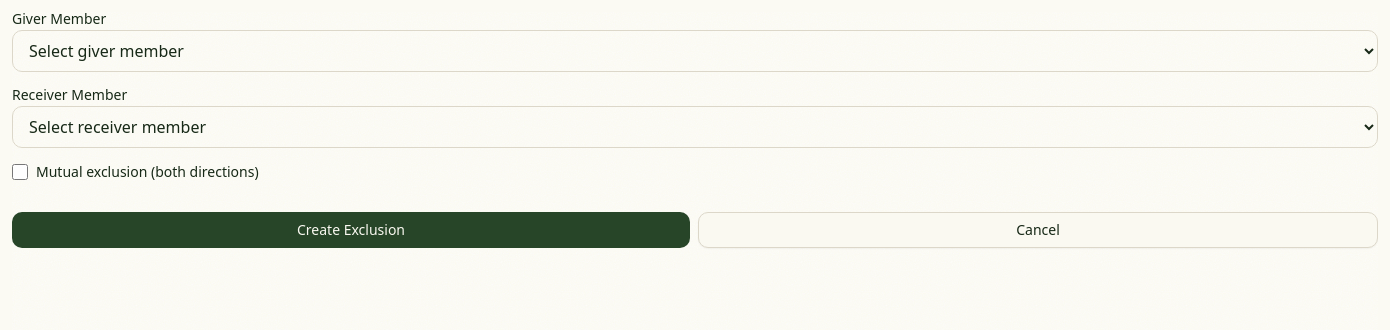
Test: ExclusionForm › validates that giver is selected
Select "Alice" in the dropdown labelled "Receiver Member" at point(695, 127), box [12,106,1378,148]
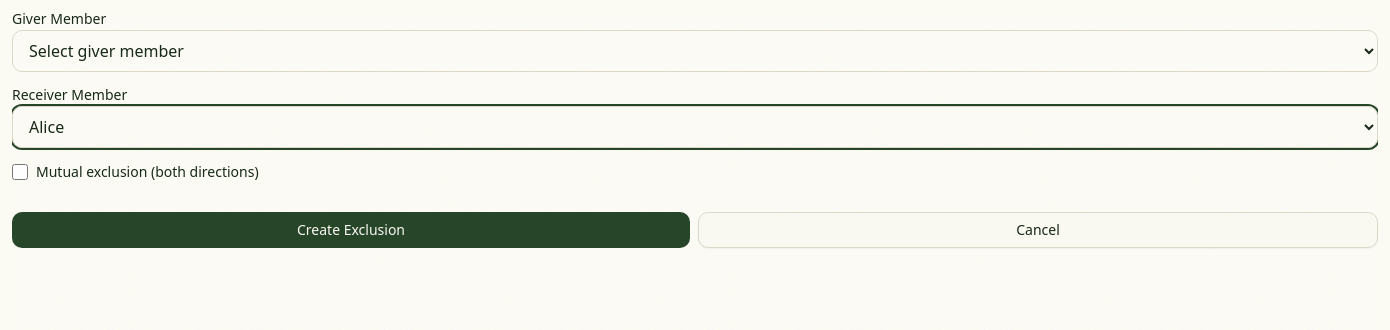
Click the button "Create Exclusion" at point(351, 230), box [12,212,690,248]
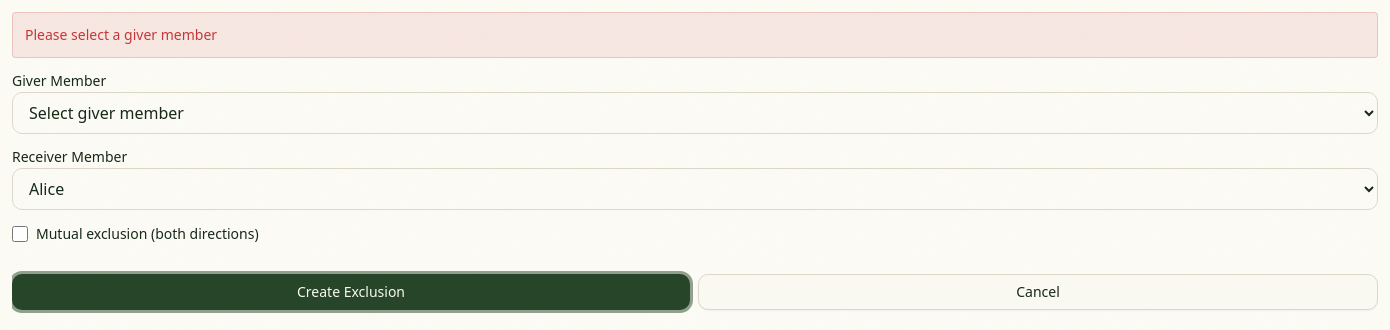
Result: the text "Please select a giver member" is shown at [12,12,1378,58]
